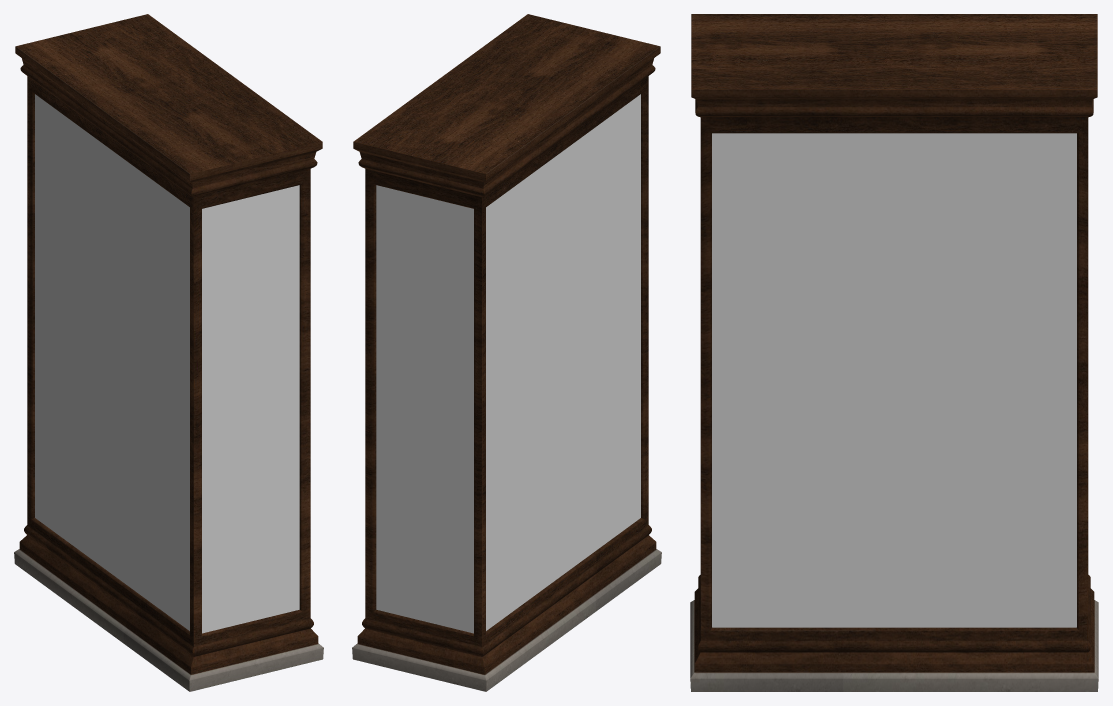
Rendered from Vitrine.fbx.
The picture shows the model from 3 angles, left to right: view 1: azimuth 30°, elevation 25°; view 2: azimuth 150°, elevation 25°; view 3: azimuth 270°, elevation 25°; orthographic projection. The views are drawn at different scales.
Parts seen in each view (by area): view 1: Glass.ShowcaseTall, ShowcaseGross; view 2: Glass.ShowcaseTall, ShowcaseGross; view 3: Glass.ShowcaseTall, ShowcaseGross.
Part boxes in pixels (<box>): Glass.ShowcaseTall: <box>35,94,299,633</box>; ShowcaseGross: <box>14,14,323,691</box>; Glass.ShowcaseTall: <box>376,94,640,633</box>; ShowcaseGross: <box>352,14,661,691</box>; Glass.ShowcaseTall: <box>712,133,1076,627</box>; ShowcaseGross: <box>690,14,1098,691</box>.
Size of the model in its own units: 61.22 by 225 by 138.
Materials: 1 (1 with a texture image).
